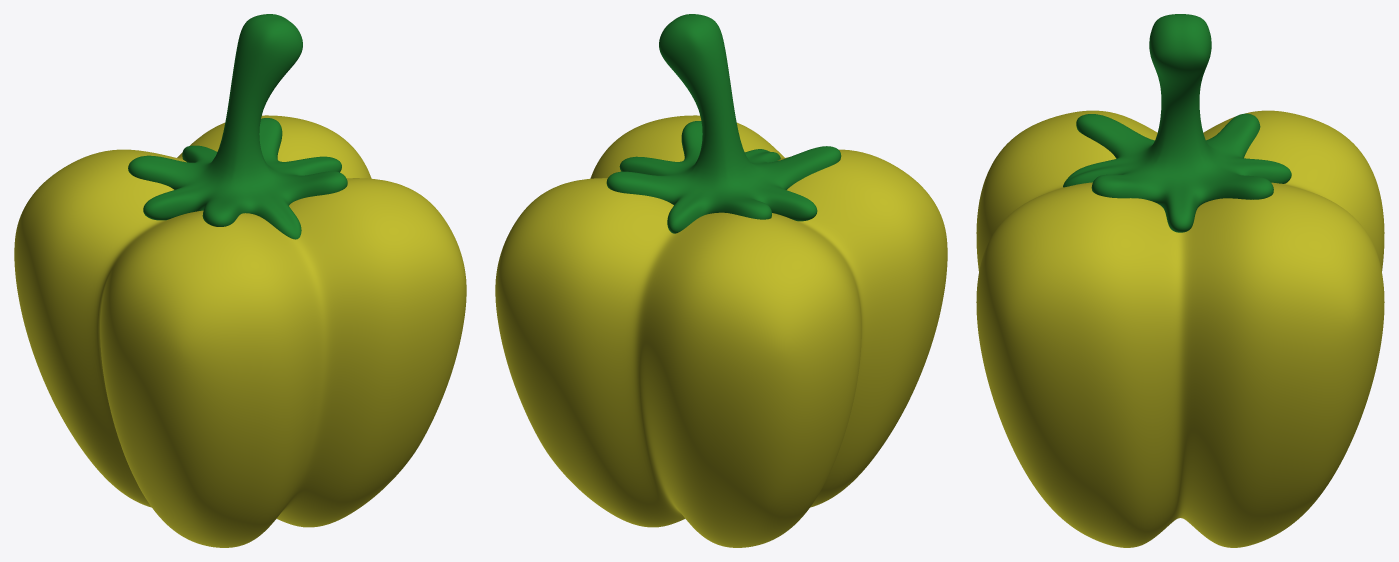
File: yellow paprika.fbx
3 views of the same model, side by side, from view 1: azimuth 30°, elevation 25°; view 2: azimuth 150°, elevation 25°; view 3: azimuth 270°, elevation 25° (orthographic). The views are drawn at different scales.
Parts seen in each view (by area): view 1: Cube, Cube.002; view 2: Cube, Cube.002; view 3: Cube, Cube.002.
Part boxes in pixels (left/top/right/bottom): Cube: left=14, top=115, right=466, bottom=547; Cube.002: left=128, top=14, right=347, bottom=239; Cube: left=495, top=115, right=947, bottom=547; Cube.002: left=606, top=14, right=841, bottom=233; Cube: left=976, top=110, right=1384, bottom=547; Cube.002: left=1063, top=14, right=1291, bottom=232.
Bounding box in the file's own units: 151 × 212 × 151.
